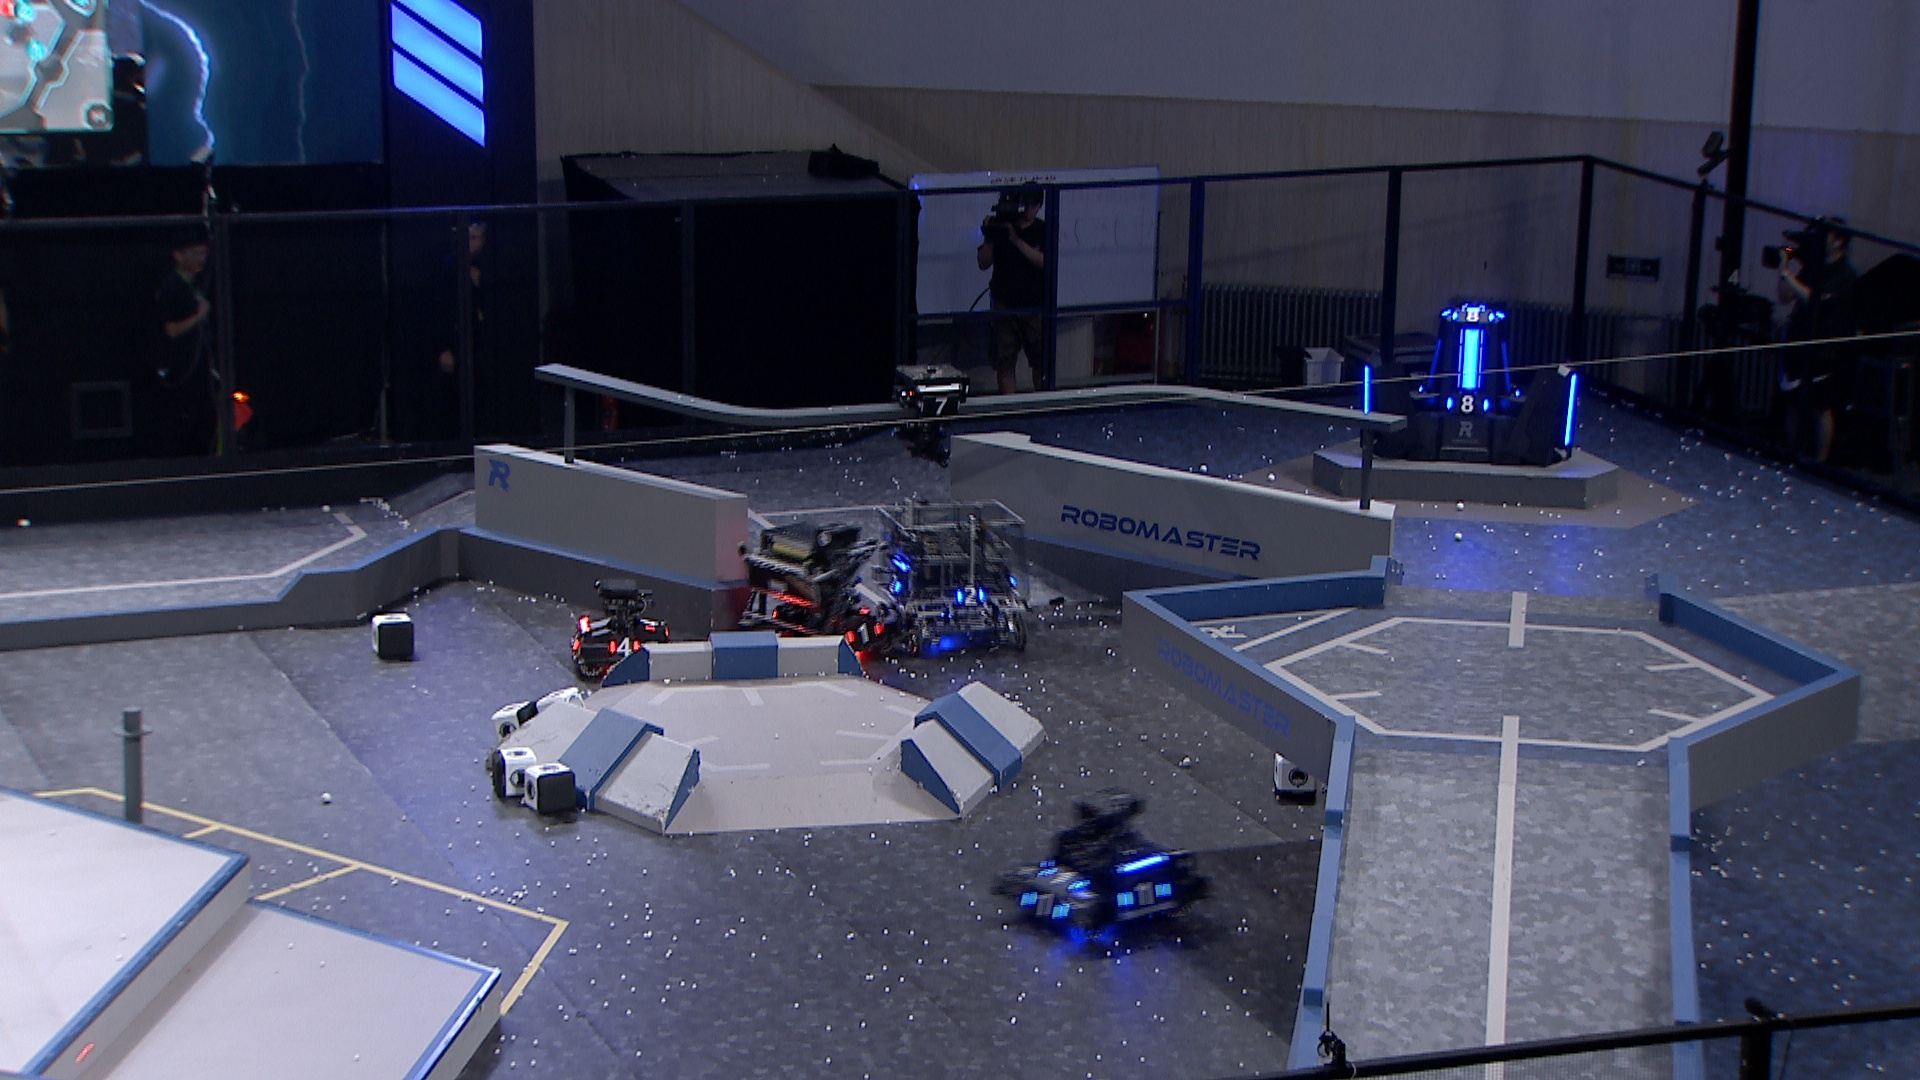armor: (1017, 889, 1073, 924), (1116, 880, 1174, 910), (1458, 327, 1481, 394), (1043, 865, 1092, 891), (1425, 335, 1447, 396), (841, 622, 887, 647), (1564, 372, 1578, 448), (1499, 342, 1522, 390), (915, 396, 963, 417), (1443, 396, 1490, 414), (604, 636, 640, 659), (953, 584, 986, 609), (1449, 309, 1495, 324), (1360, 363, 1371, 418), (637, 613, 662, 636), (885, 572, 903, 599), (567, 632, 583, 654)
base: (1356, 305, 1581, 471)
car: (986, 787, 1215, 945), (868, 498, 1035, 659), (728, 522, 893, 674), (560, 580, 678, 680)
watcher: (891, 363, 972, 469)
